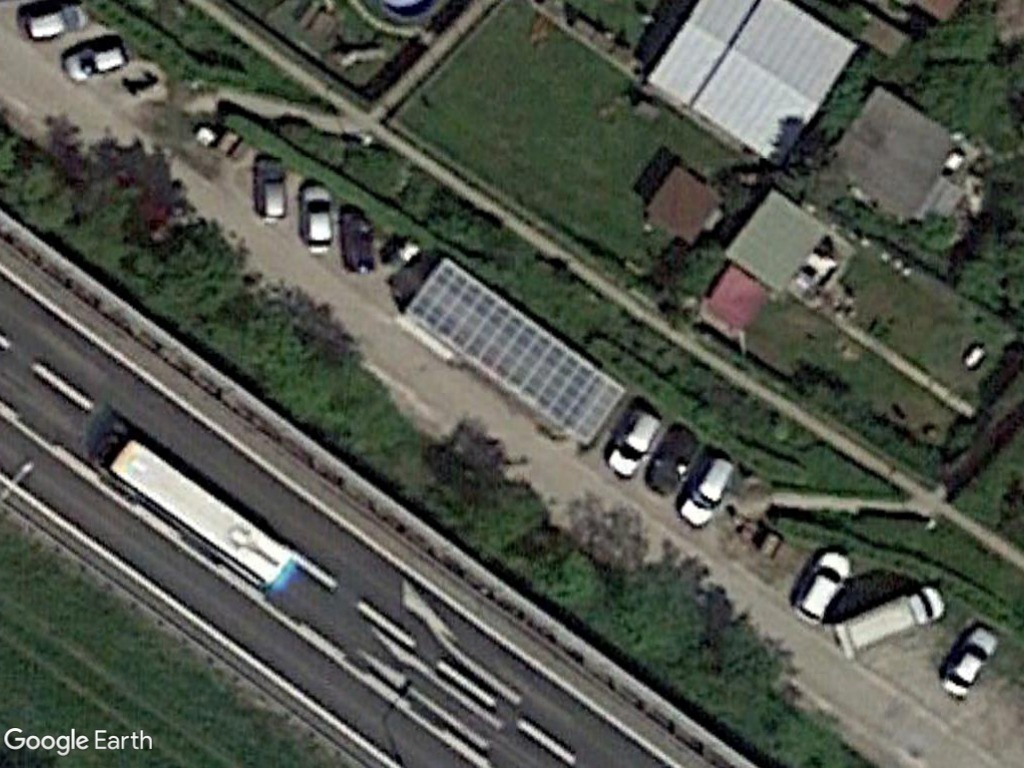bus: (98, 427, 301, 597)
car: (671, 449, 742, 533), (787, 549, 861, 625), (934, 623, 1006, 701), (601, 405, 664, 483), (56, 31, 136, 91), (15, 0, 97, 49), (250, 147, 293, 227), (295, 176, 337, 256)
van: (826, 585, 954, 657)
